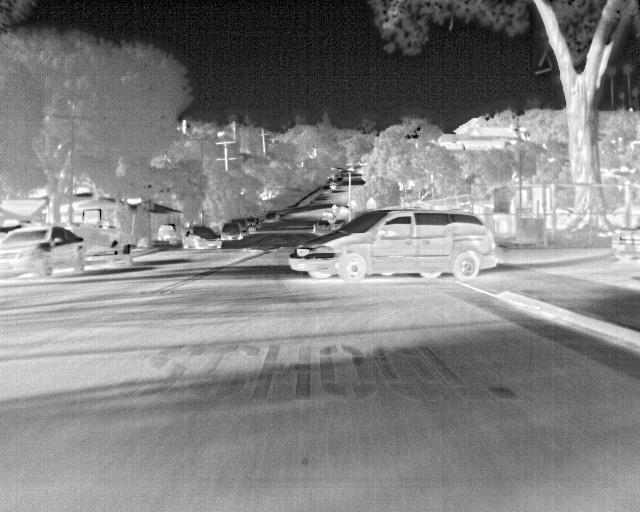car: (289, 209, 500, 283), (0, 224, 90, 278), (181, 224, 221, 250), (218, 222, 241, 240), (156, 223, 176, 241), (308, 219, 330, 235), (230, 217, 248, 234), (245, 216, 259, 231), (266, 210, 279, 223)
